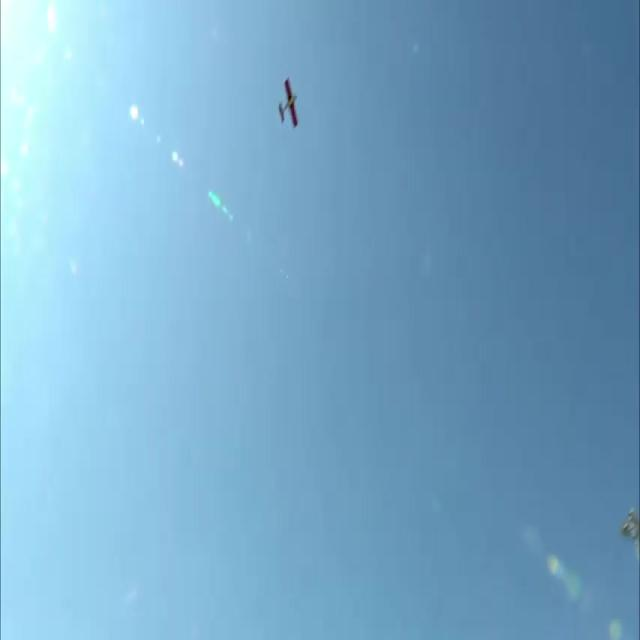iha: (277, 12, 300, 66)
